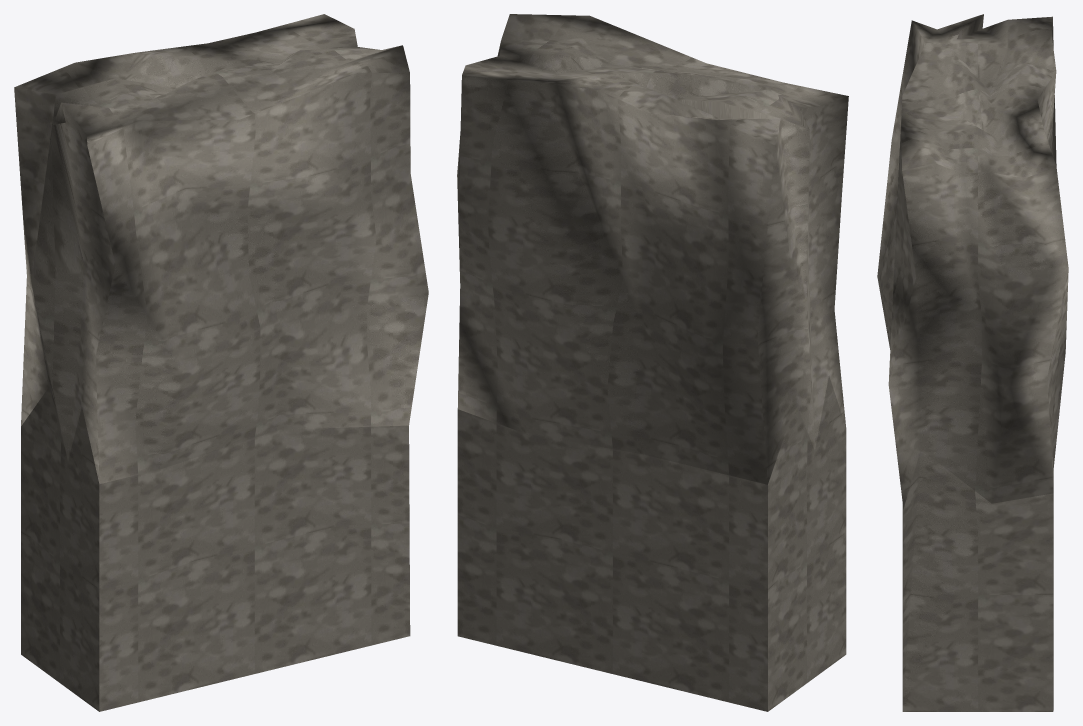
File: cliff_tall_lod1.glb
3 renders of one model, left to right at view 1: azimuth 30°, elevation 25°; view 2: azimuth 150°, elevation 25°; view 3: azimuth 270°, elevation 25°, orthographic. The views are drawn at different scales.
Visible parts, largest first — view 1: m; view 2: m; view 3: m.
Boxes of the visible parts, x1,y1,x2,y2 form: m: [14, 14, 428, 711]; m: [457, 14, 848, 711]; m: [877, 14, 1068, 711].
Bounding box in the file's own units: 8.66 × 14.27 × 4.44.
1 material, 1 textured.
